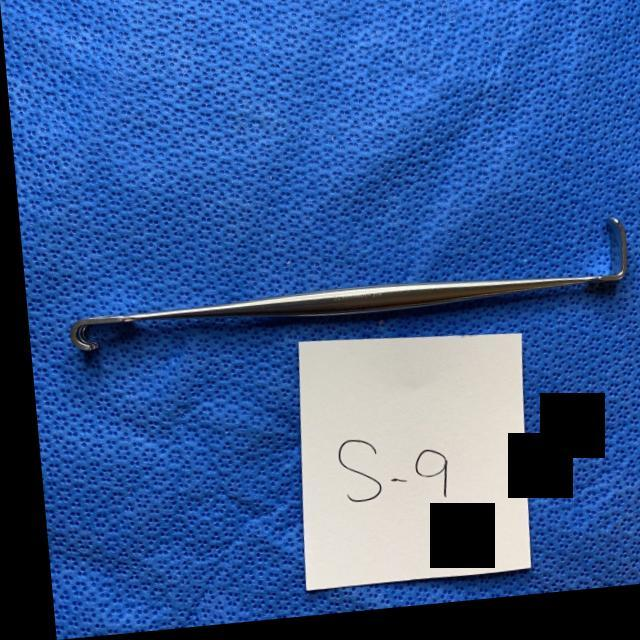Senn Retractor: (42, 222, 640, 376)
